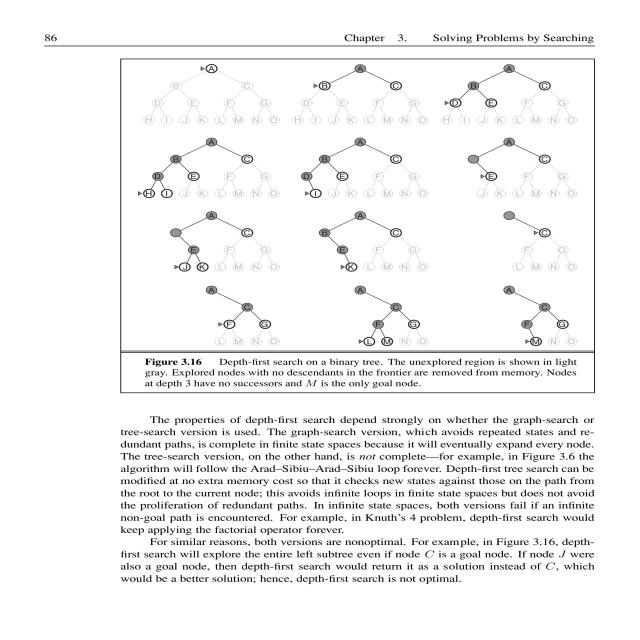diagram: (120, 59, 598, 396), (122, 59, 594, 385)
